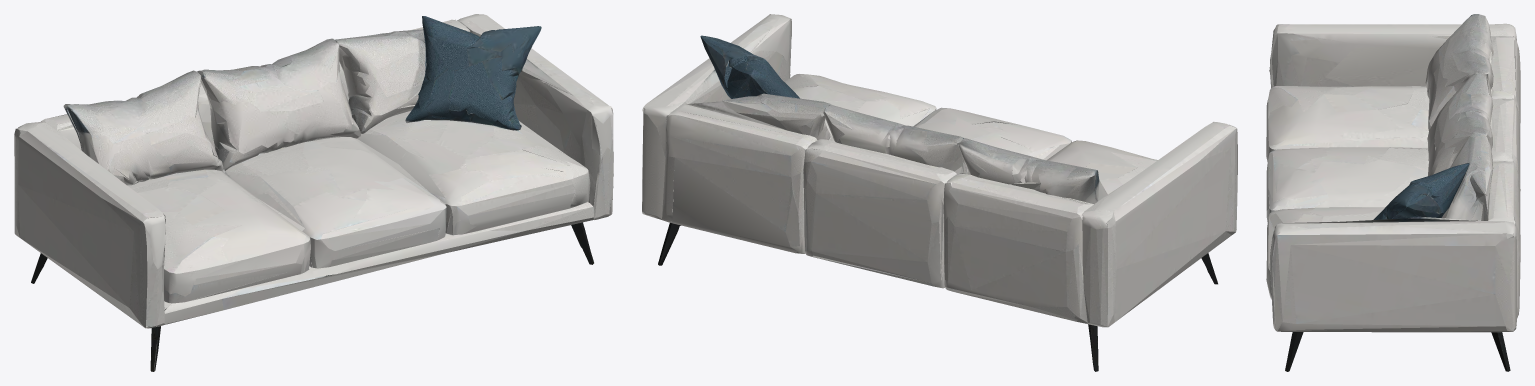
Rendered from sofa3.glb.
The picture shows the model from 3 angles, left to right: view 1: azimuth 30°, elevation 25°; view 2: azimuth 150°, elevation 25°; view 3: azimuth 270°, elevation 25°; orthographic projection. The views are drawn at different scales.
Visible parts, largest first — view 1: sofa3; view 2: sofa3; view 3: sofa3.
Part boxes in pixels (box(x1,y1,x2,y2)): sofa3: box(14, 14, 613, 371); sofa3: box(642, 14, 1237, 371); sofa3: box(1266, 14, 1520, 371).
Size of the model in its own units: 2.4 by 0.9357 by 1.22.
1 material, 1 textured.
